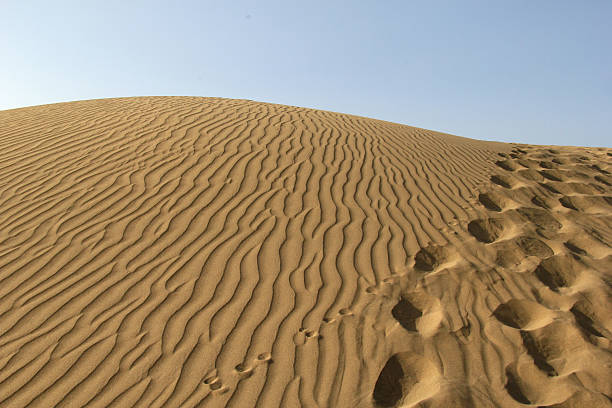animal_foot_print: (0, 3, 611, 407), (0, 187, 611, 407), (302, 166, 516, 351), (372, 351, 441, 406), (493, 299, 555, 329), (535, 254, 582, 290), (414, 244, 450, 271), (468, 218, 504, 242), (490, 174, 517, 188), (518, 159, 537, 168), (211, 381, 221, 389), (204, 378, 217, 384), (339, 309, 350, 315), (259, 353, 270, 359), (236, 364, 245, 370), (307, 330, 314, 336)
